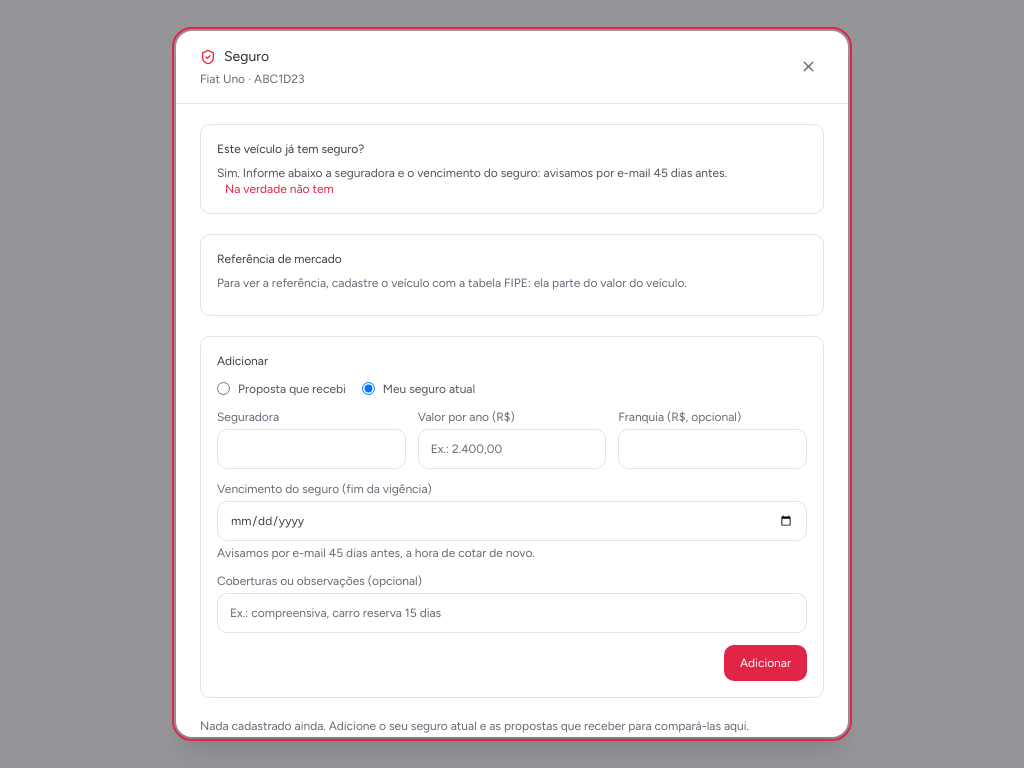
SegurosModal: este veículo já tem seguro? › cadastrar o seguro atual envia o vencimento
Type "Porto" into the field labelled "Seguradora" at [311, 449], box [217, 429, 406, 469]
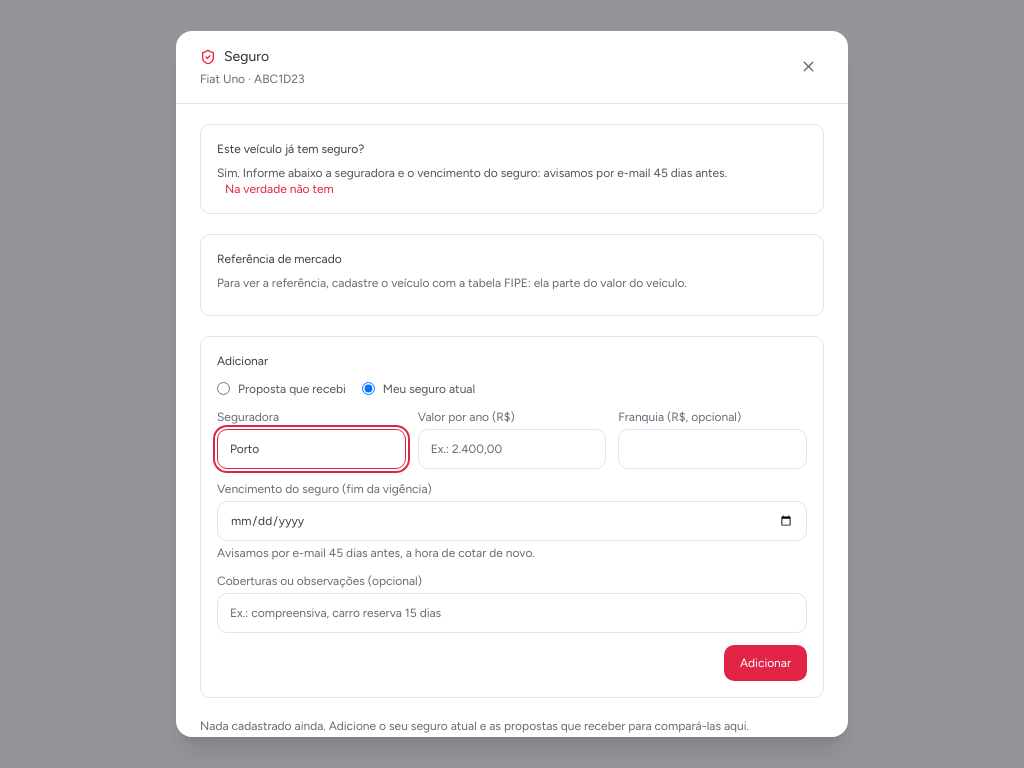
Type "2.400,00" into the field labelled "Valor por ano (R$)" at [512, 449], box [418, 429, 606, 469]
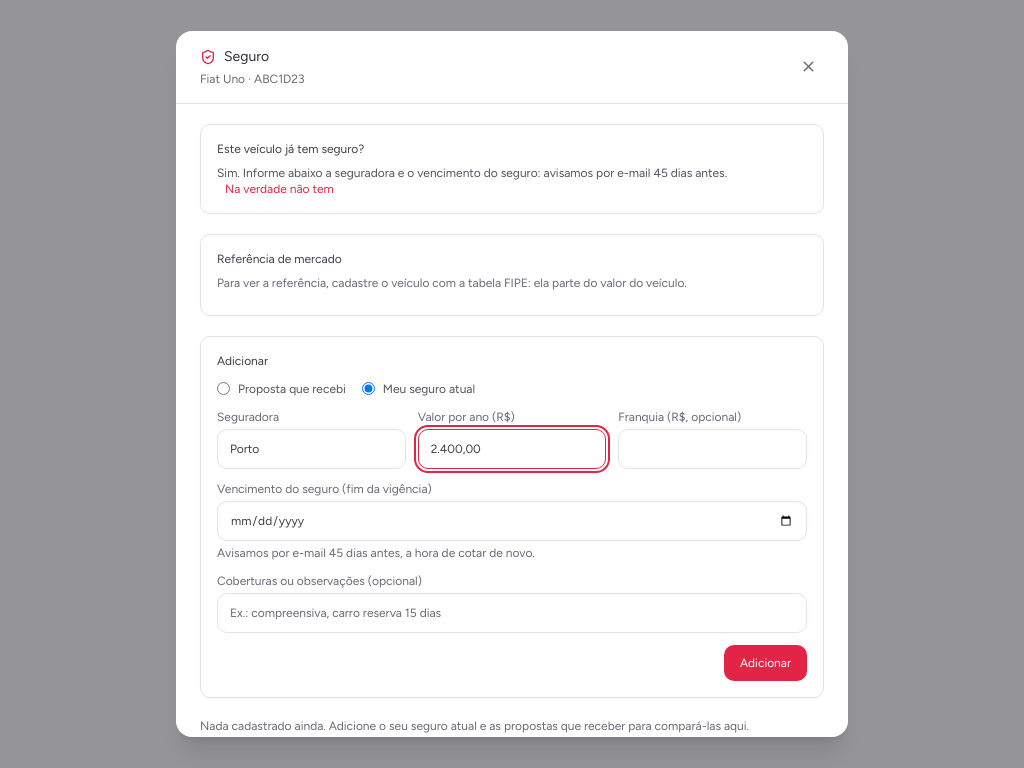
Type "2027-03-15" into the date field labelled "Vencimento do seguro" at [512, 521], box [217, 501, 807, 541]
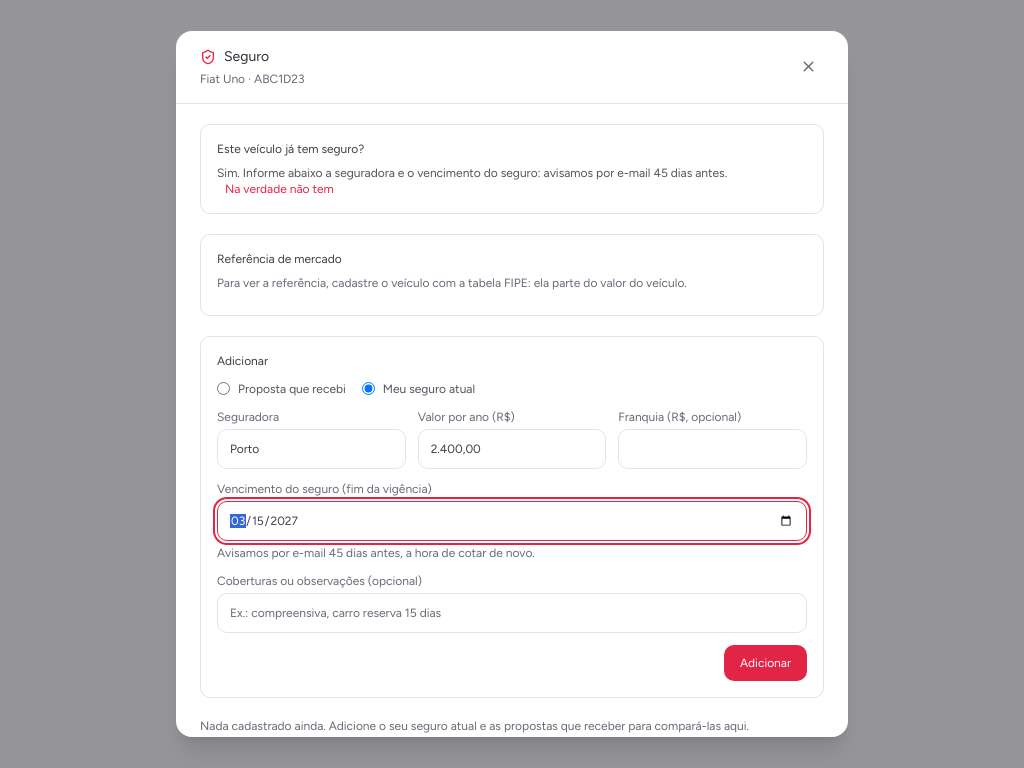
Click the button "Adicionar" at [766, 663], box [724, 645, 807, 681]
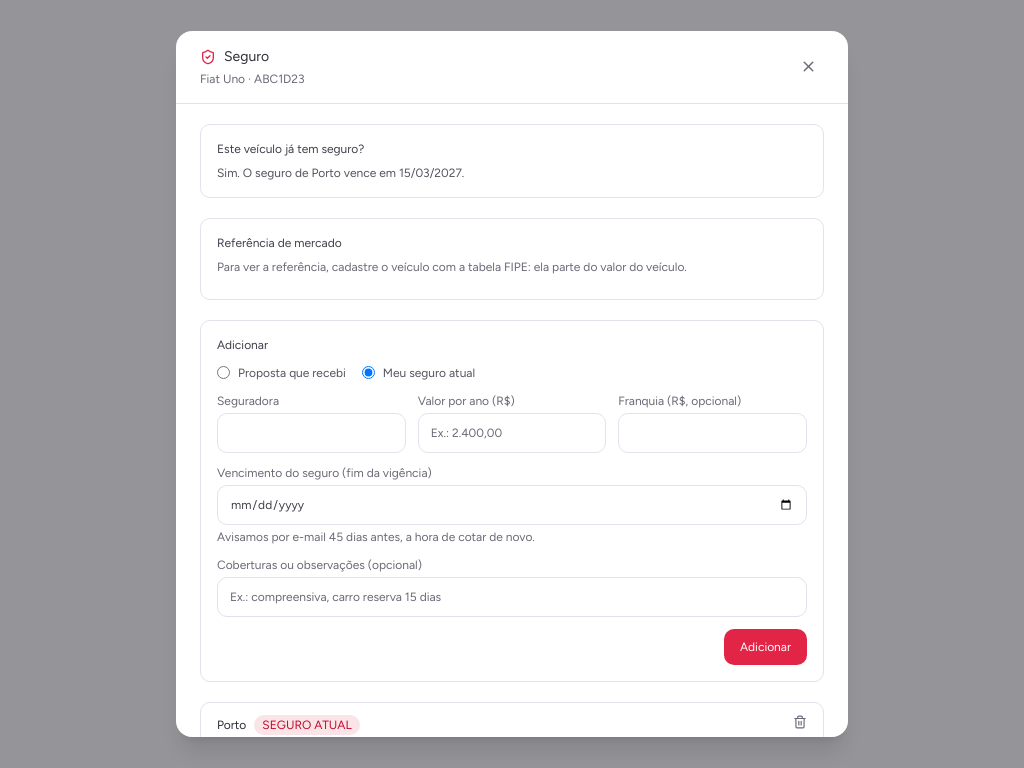
Now the text "Sim. O seguro de Porto vence em 15/03/2027." is shown, box [217, 166, 464, 180]
